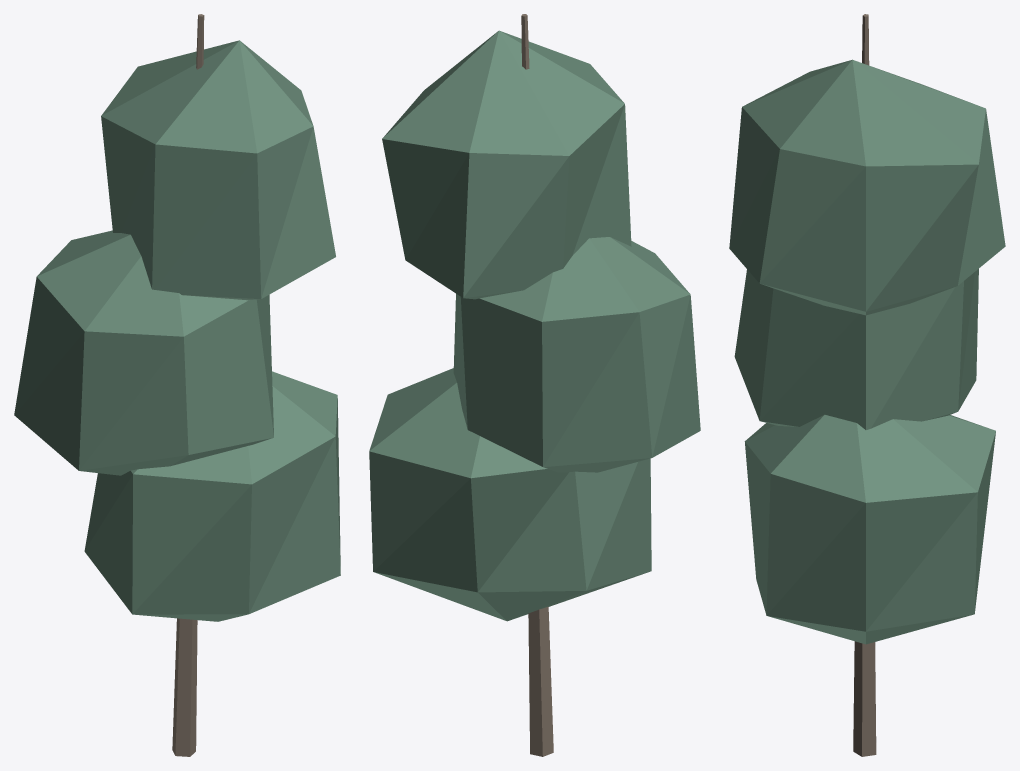
3 renders of one model, left to right at view 1: azimuth 30°, elevation 25°; view 2: azimuth 150°, elevation 25°; view 3: azimuth 270°, elevation 25°, orthographic.
Size of the model in its own units: 2.57 by 6.12 by 2.06.
